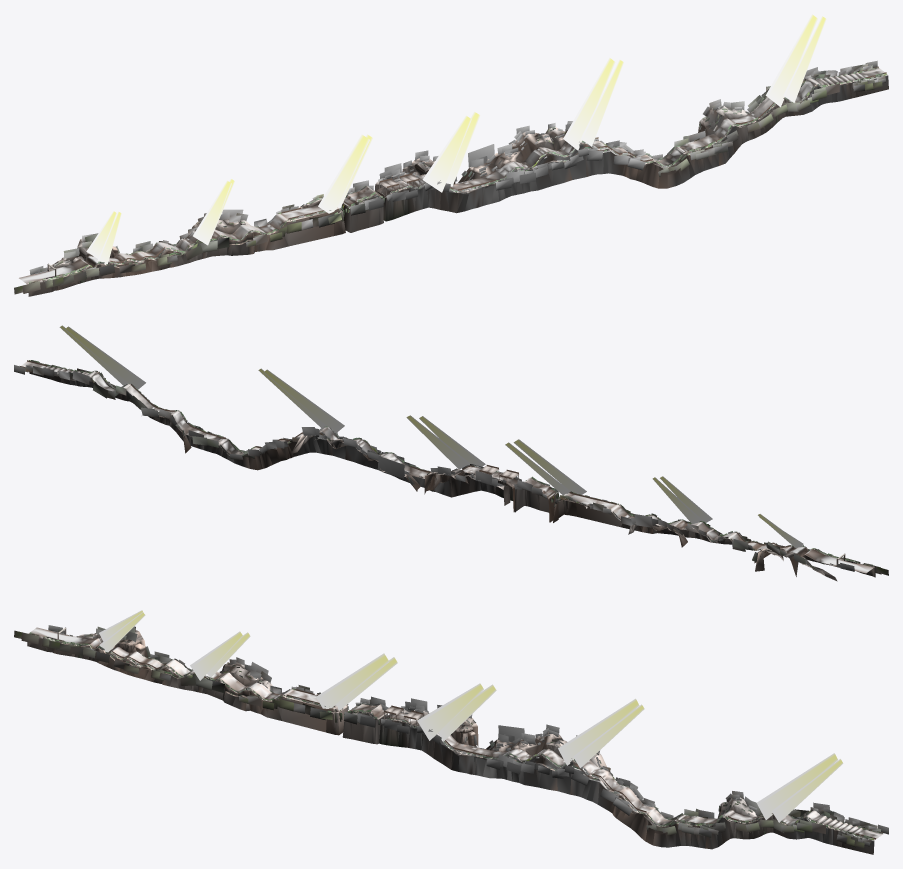
File: Forest_13.fbx
The picture shows the model from 3 angles, top to bottom: view 1: azimuth 30°, elevation 25°; view 2: azimuth 150°, elevation 25°; view 3: azimuth 330°, elevation 25°; orthographic projection.
Parts seen in each view (by area): view 1: Mountain_04, Tree_01_A, Light_01_V1, Ground_01, Leak_A_02; view 2: Mountain_04, Tree_01_A, Light_01_V1, Ground_01, Leak_A_02; view 3: Mountain_04, Tree_01_A, Light_01_V1, Ground_01, Leak_A_02.
Boxes of the visible parts, left/top/right/bottom form: Mountain_04: left=27, top=74, right=888, bottom=296; Tree_01_A: left=14, top=60, right=886, bottom=294; Light_01_V1: left=86, top=14, right=826, bottom=264; Ground_01: left=19, top=68, right=884, bottom=283; Leak_A_02: left=110, top=66, right=886, bottom=262; Mountain_04: left=29, top=366, right=875, bottom=581; Tree_01_A: left=14, top=360, right=888, bottom=575; Light_01_V1: left=59, top=325, right=803, bottom=548; Ground_01: left=21, top=361, right=873, bottom=573; Leak_A_02: left=20, top=360, right=790, bottom=547; Mountain_04: left=27, top=630, right=874, bottom=854; Tree_01_A: left=14, top=625, right=888, bottom=848; Light_01_V1: left=99, top=610, right=843, bottom=822; Ground_01: left=29, top=627, right=882, bottom=839; Leak_A_02: left=112, top=651, right=883, bottom=839.
Size of the model in its own units: 85529 by 11687 by 4671.
